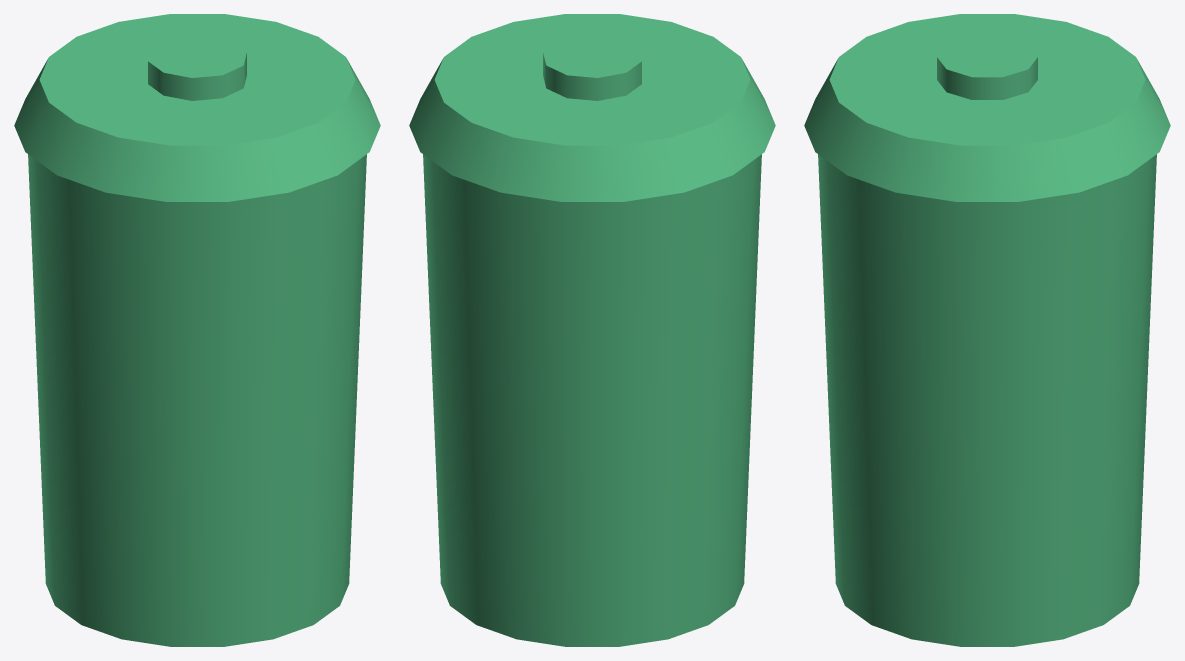
File: SM_TrashBin.fbx
The picture shows the model from 3 angles, left to right: view 1: azimuth 30°, elevation 25°; view 2: azimuth 150°, elevation 25°; view 3: azimuth 270°, elevation 25°; orthographic projection.
Parts seen in each view (by area): view 1: SM_TrashBin; view 2: SM_TrashBin; view 3: SM_TrashBin.
Boxes of the visible parts, box(x1,y1,x2,y2) form: SM_TrashBin: box(14, 14, 380, 646); SM_TrashBin: box(409, 14, 775, 646); SM_TrashBin: box(804, 14, 1170, 646).
Bounding box in the file's own units: 0.5712 × 0.92 × 0.58.
